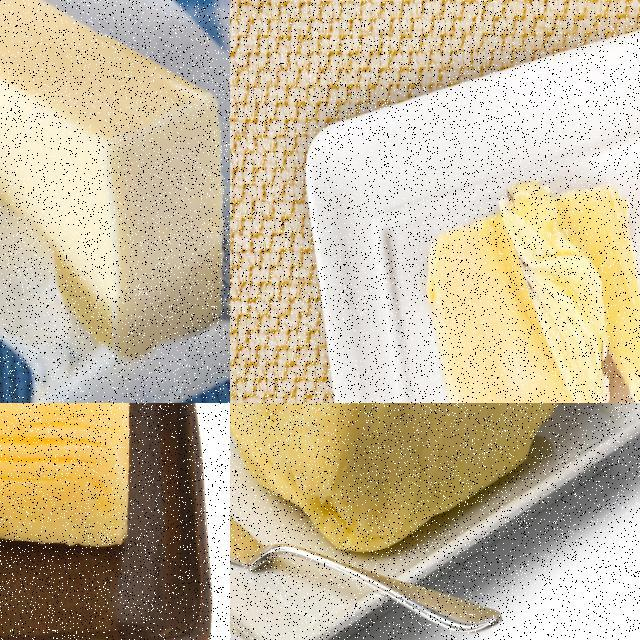Butter: (0, 0, 227, 370), (230, 403, 581, 556), (424, 179, 639, 402), (0, 403, 134, 551)
